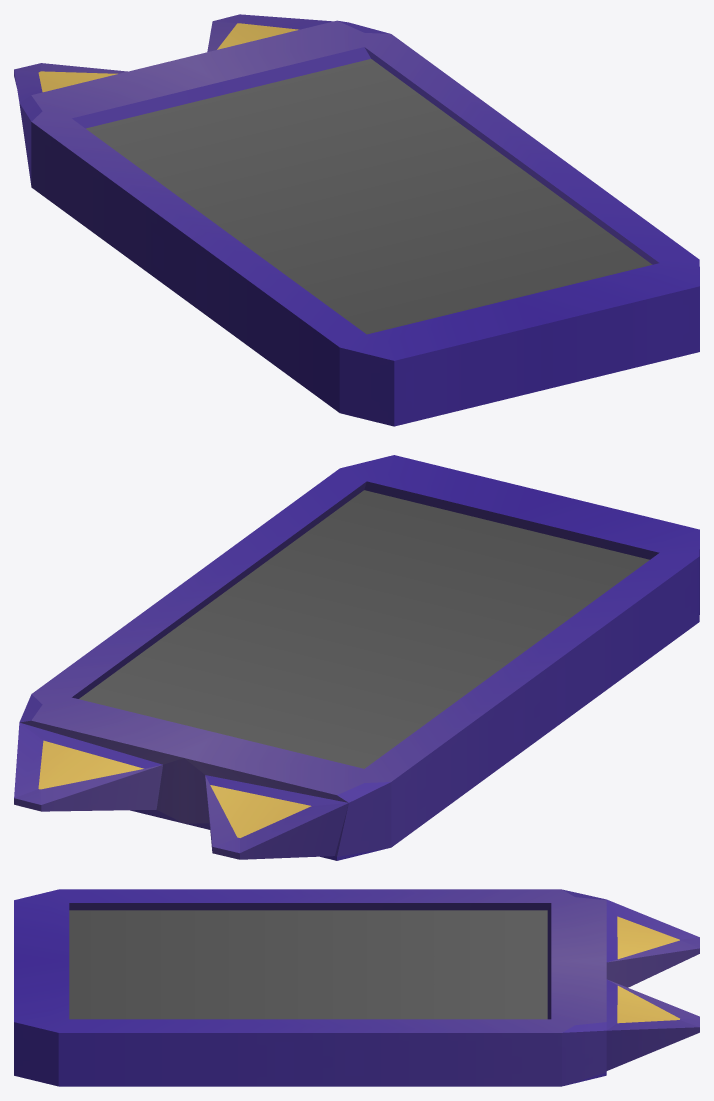
Rendered from sp_telephone_shaking_a.fbx.
3 renders of one model, top to bottom at view 1: azimuth 30°, elevation 25°; view 2: azimuth 150°, elevation 25°; view 3: azimuth 270°, elevation 25°, orthographic. The views are drawn at different scales.
Visible parts, largest first — view 1: sp_telephone_shaking_a; view 2: sp_telephone_shaking_a; view 3: sp_telephone_shaking_a.
Boxes of the visible parts, box(x1,y1,x2,y2) form: sp_telephone_shaking_a: box(14, 14, 699, 426); sp_telephone_shaking_a: box(14, 455, 699, 860); sp_telephone_shaking_a: box(14, 889, 699, 1086).
Bounding box in the file's own units: 36.24 × 6.32 × 73.27.
